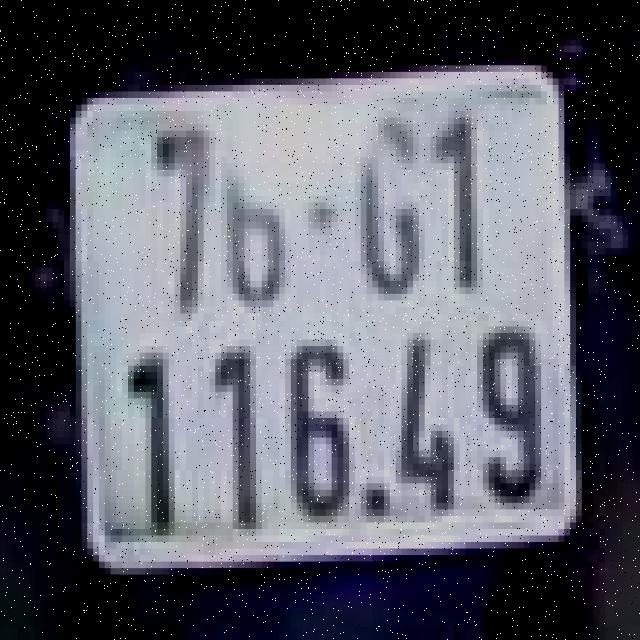1: (116, 343, 180, 539), (204, 340, 268, 529), (430, 108, 483, 304)
4: (390, 330, 460, 519)
6: (221, 111, 291, 313), (285, 333, 355, 516)
7: (146, 114, 210, 323)
9: (474, 320, 544, 509)
G: (352, 114, 428, 304)
